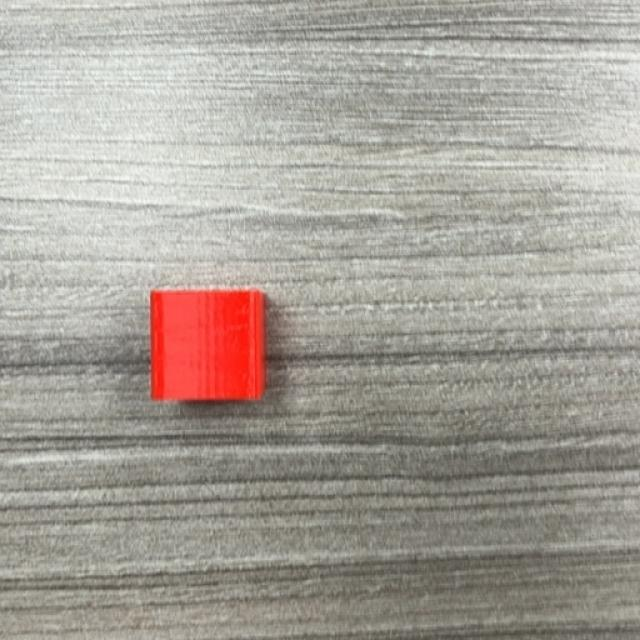Rojo: (151, 292, 264, 404)
